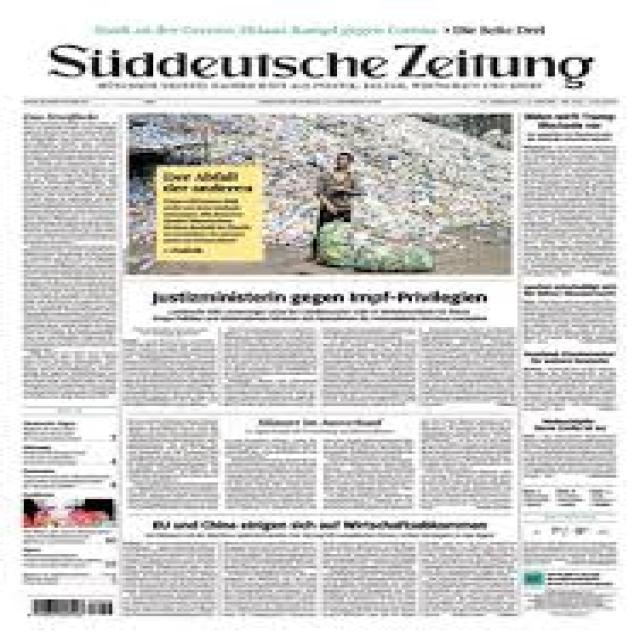paper: (17, 11, 639, 640)
